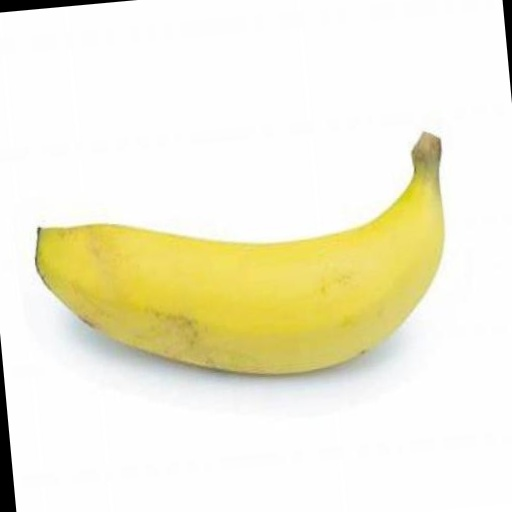fruit: (35, 134, 443, 374)
